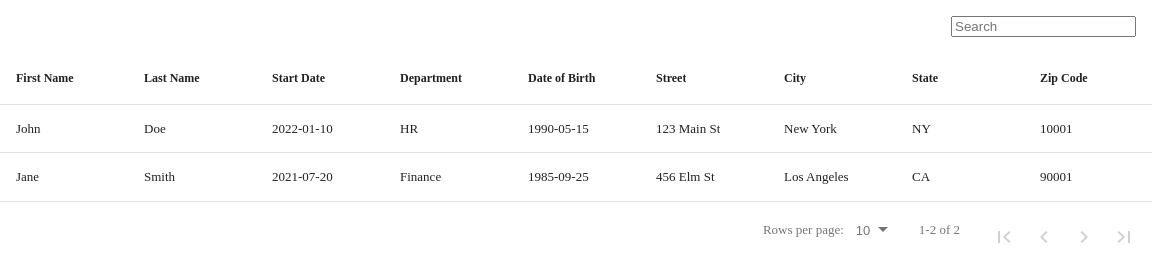
Scenario: EmployeeListTable unit tests suite › should filter the employee when typing in search input
This screenshot has width=1152, height=260.
Type "Jane" into the field with placeholder "Search". click: (1044, 26)
box: [951,16,1136,36]
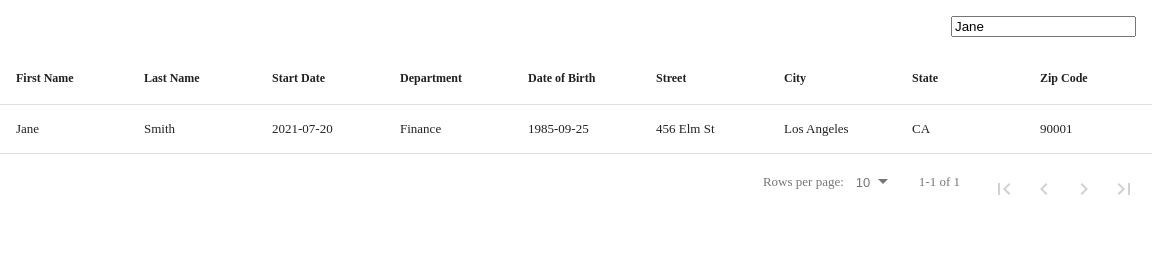
Result: the text "Jane" is shown at [16,121,39,137]
Result: the text "Smith" is shown at [144,121,175,137]
Result: the text "John" is gone
